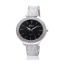watch: (14, 15, 52, 45)
